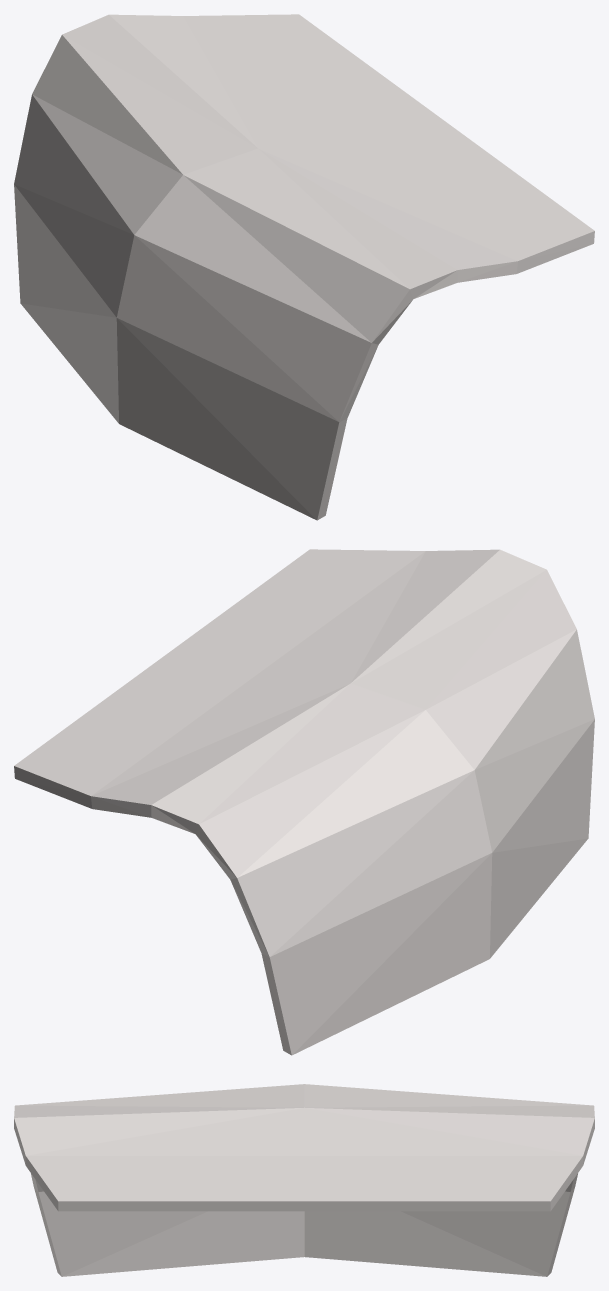
Rendered from SM_Vendor_XoiCloth_02.fbx.
3 renders of one model, top to bottom at view 1: azimuth 30°, elevation 25°; view 2: azimuth 150°, elevation 25°; view 3: azimuth 270°, elevation 25°, orthographic. The views are drawn at different scales.
Parts seen in each view (by area): view 1: SM_Vendor_XoiCloth_02; view 2: SM_Vendor_XoiCloth_02; view 3: SM_Vendor_XoiCloth_02.
Part boxes in pixels (<box>): SM_Vendor_XoiCloth_02: <box>14,14,594,520</box>; SM_Vendor_XoiCloth_02: <box>14,549,594,1055</box>; SM_Vendor_XoiCloth_02: <box>14,1084,594,1276</box>.
Bounding box in the file's own units: 0.1367 × 0.0956 × 0.2501.
1 material, 1 textured.
